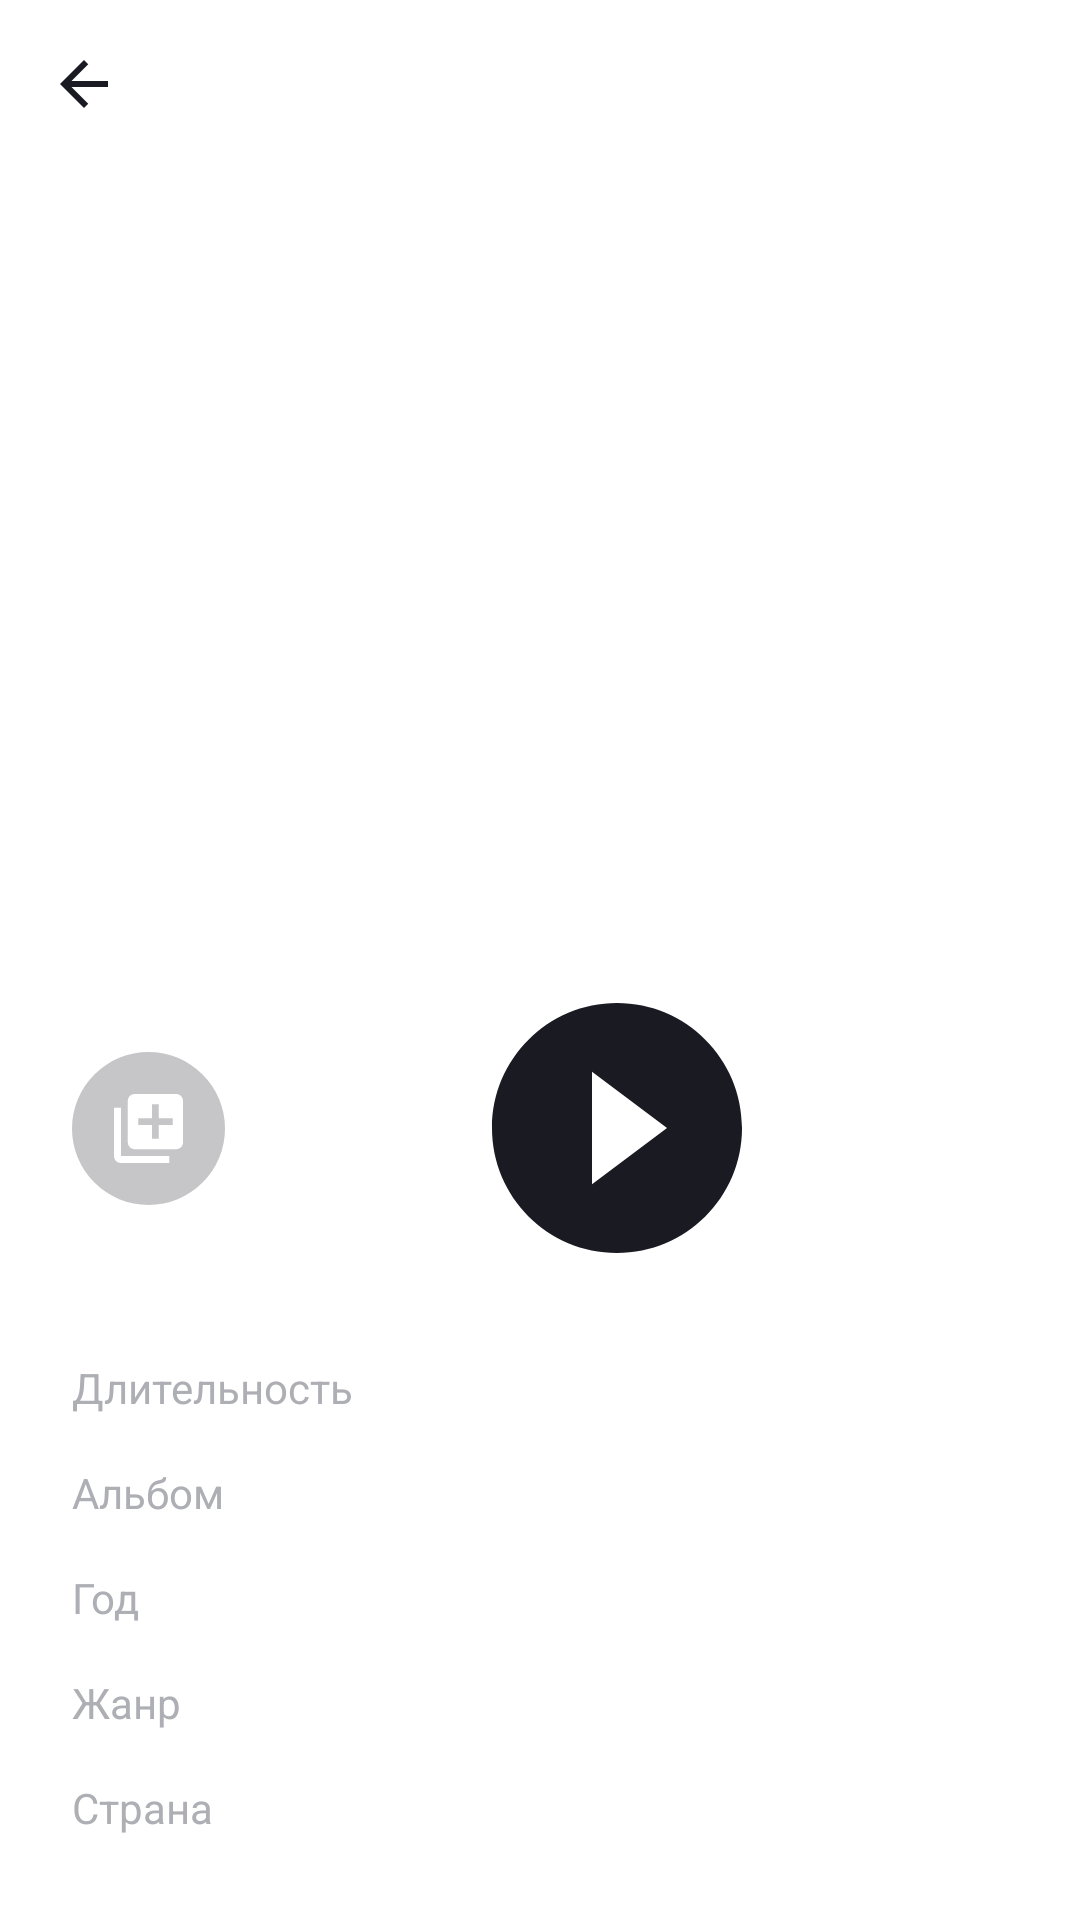

Icon click points for this 1080 x 1920 phone screenshot, format [x,y]:
add to playlist: [148,1128]
play: [617,1128]
